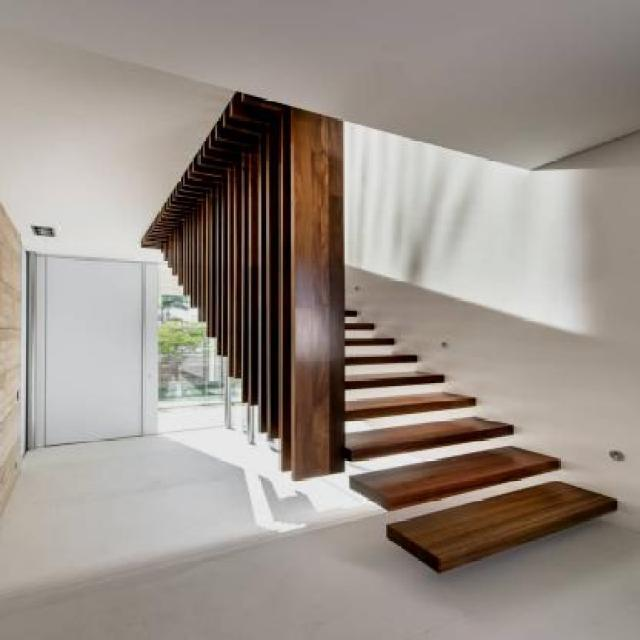stair: (140, 155, 636, 554)
